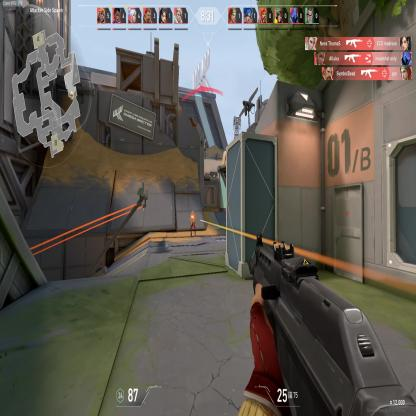enemy: (188, 209, 197, 238)
